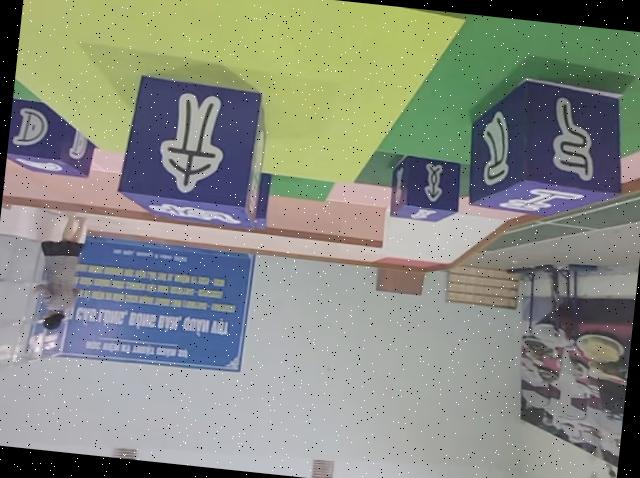R2 Fake Blue: (468, 71, 635, 224), (120, 70, 274, 228)
R2 Real Blue: (6, 96, 101, 178), (6, 97, 97, 177), (389, 155, 466, 227)
